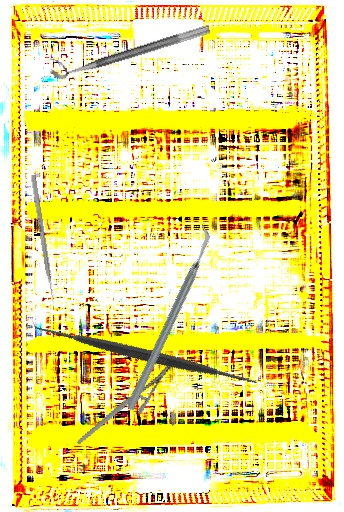Chopper: (70, 222, 266, 412)
Fixation Ring: (46, 11, 211, 83)
Needle Holder: (61, 360, 189, 445)
Pusher: (30, 174, 57, 309)
Spatula Surgical: (29, 240, 262, 469)
